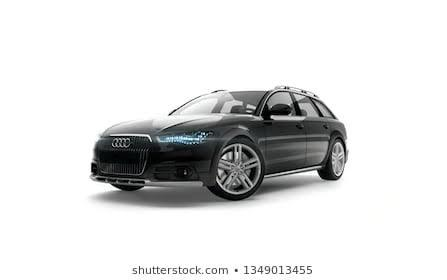audi: (74, 77, 352, 202)
